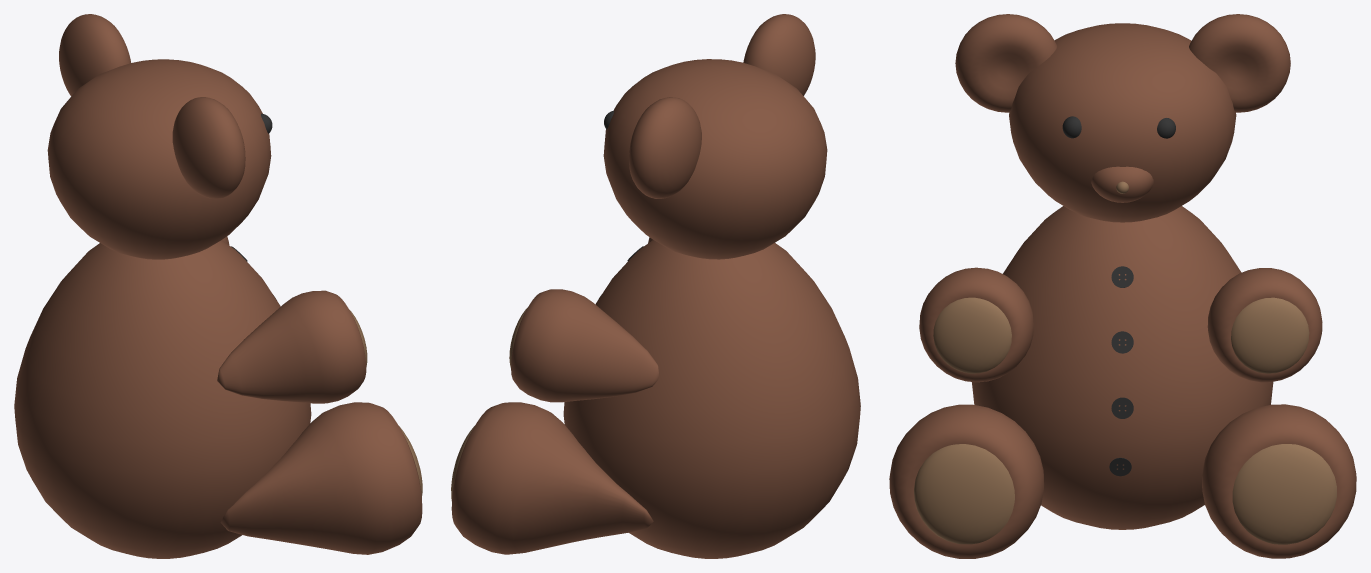
The model's file is teddybear.fbx.
3 views of the same model, side by side, from view 1: azimuth 30°, elevation 25°; view 2: azimuth 150°, elevation 25°; view 3: azimuth 270°, elevation 25° (orthographic).
Parts seen in each view (by area): view 1: Main body; view 2: Main body; view 3: Main body, Feet pads, Snout, Buttons, Eyes.
Part boxes in pixels (x1,y1,x2,y2): Main body: (14, 14, 422, 558); Main body: (451, 14, 860, 558); Main body: (889, 14, 1356, 558); Feet pads: (914, 297, 1336, 544); Snout: (1091, 166, 1153, 202); Buttons: (1109, 266, 1133, 476); Eyes: (1062, 116, 1175, 138).
Bounding box in the file's own units: 281 × 435 × 372.
